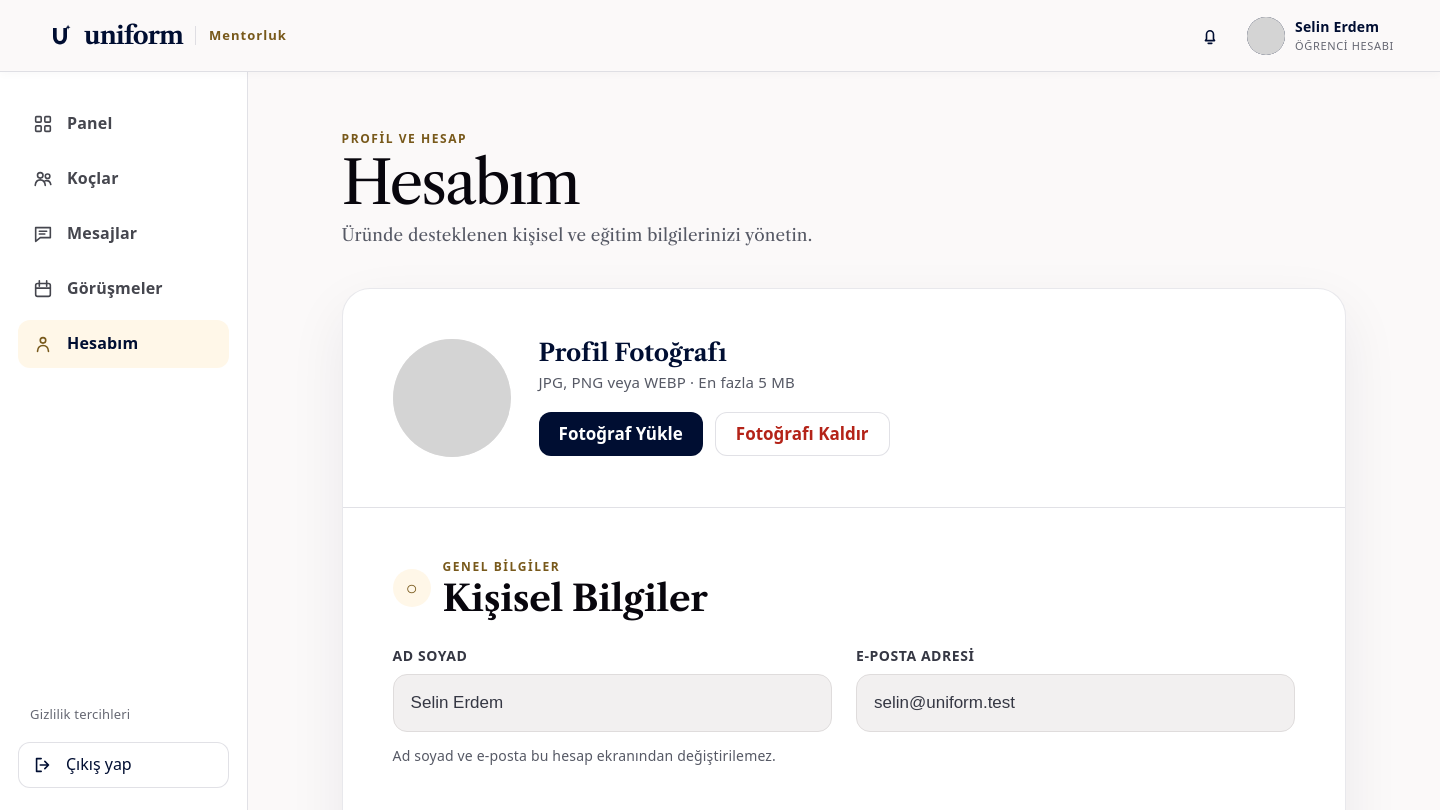
Test: shared role-aware account › opens an in-app photo removal confirmation and cancel leaves the saved image untouched
Click the button "Fotoğrafı Kaldır" at x=802, y=434, box [715,412,890,456]
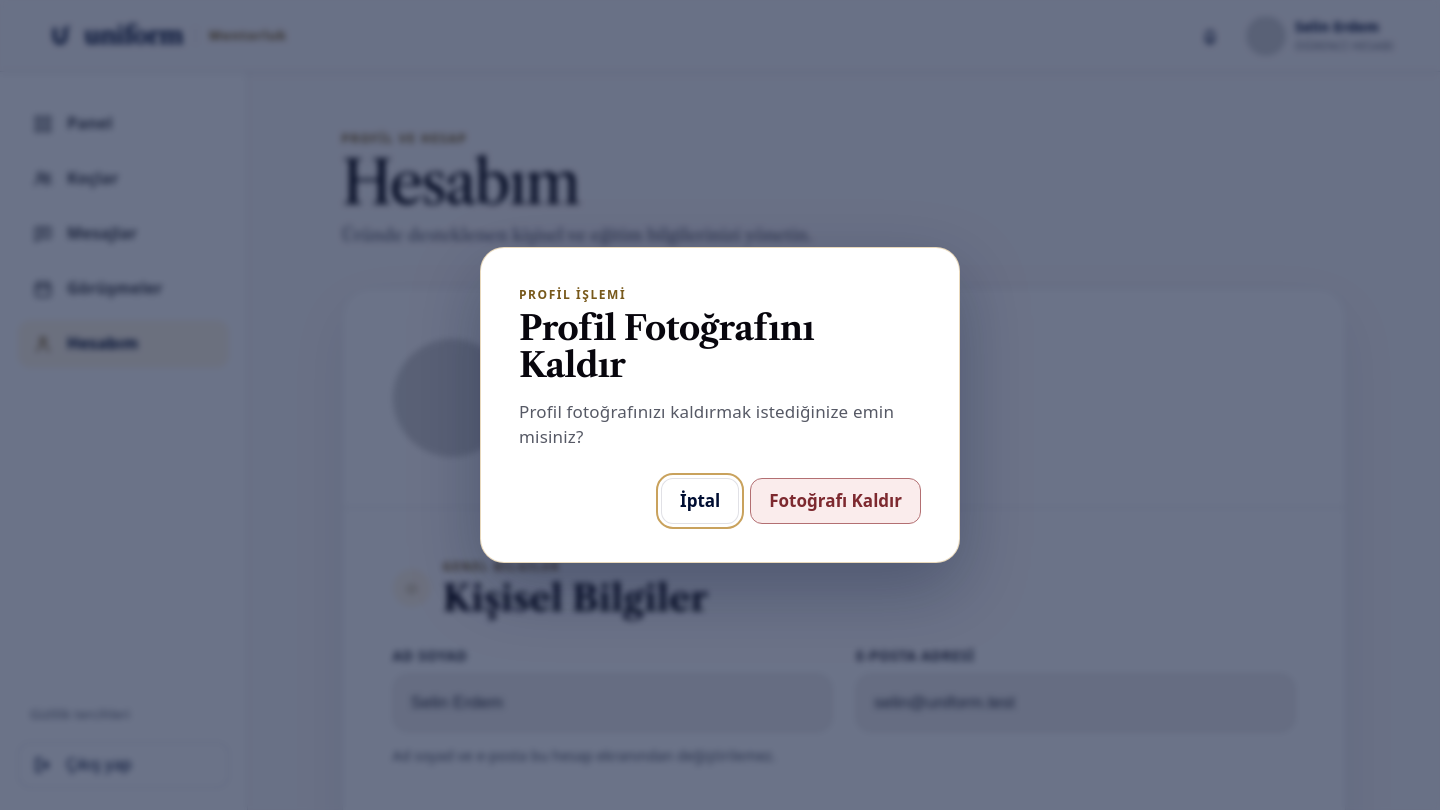
Now the text "Profil fotoğrafınızı kaldırmak istediğinize emin misiniz?" is shown, box [519,399,921,450]
Click the button "İptal" at x=700, y=501, box [661,478,739,524]
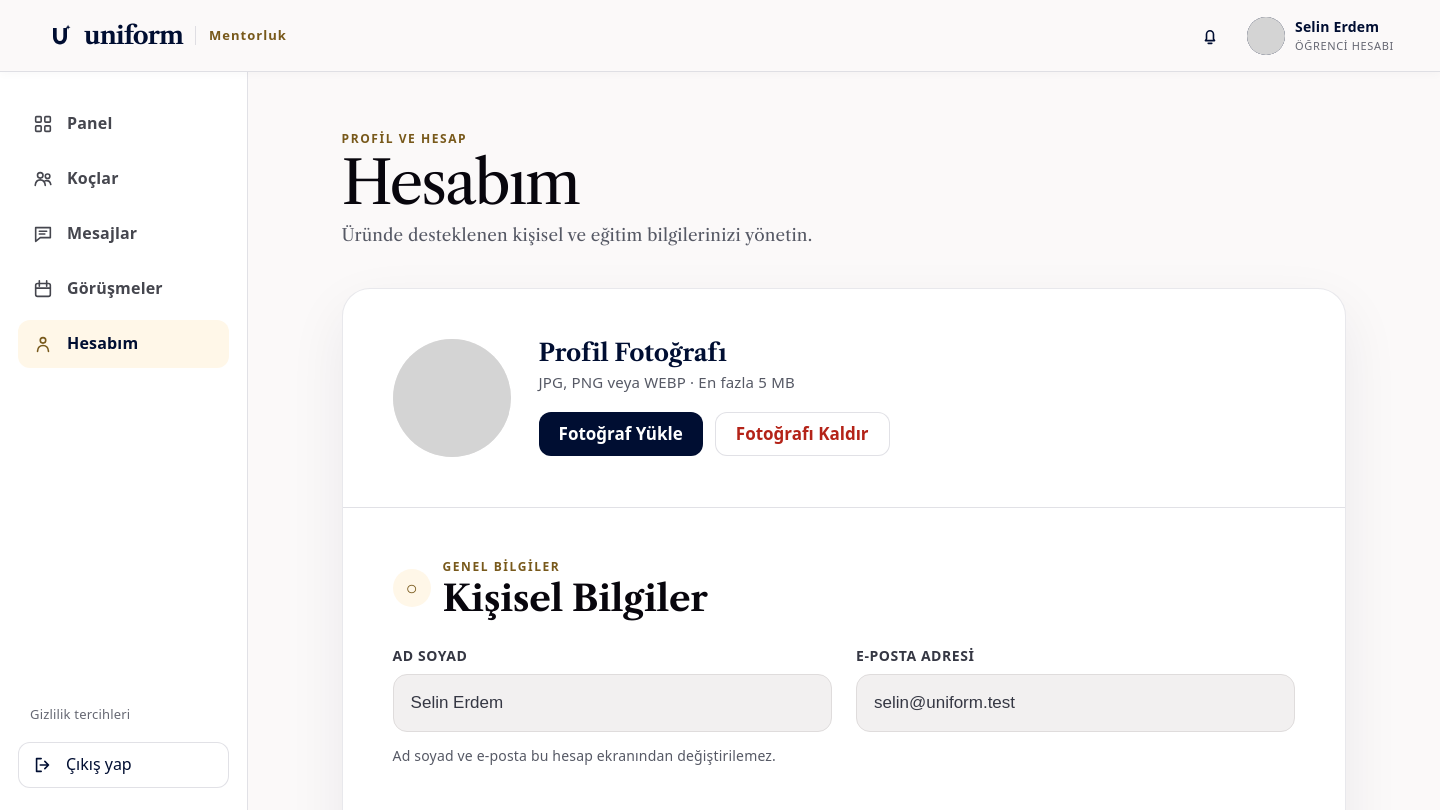
Now the heading "Profil Fotoğrafını Kaldır" is gone
